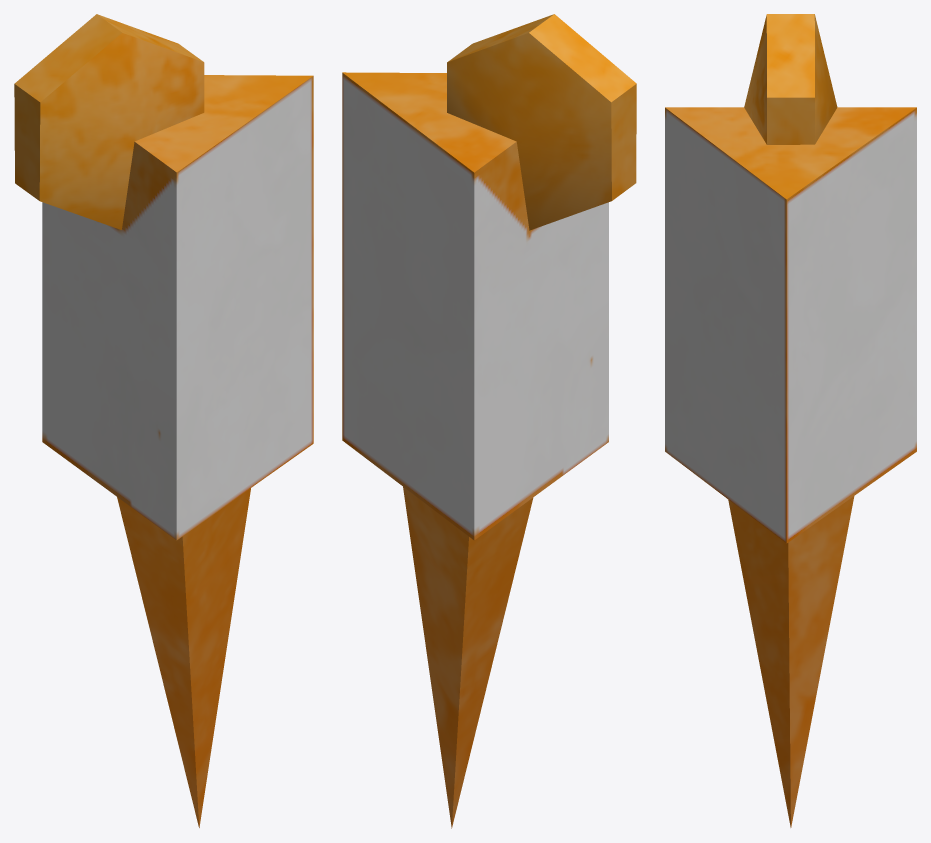
The model's file is spike_strut.fbx.
3 views of the same model, side by side, from view 1: azimuth 30°, elevation 25°; view 2: azimuth 150°, elevation 25°; view 3: azimuth 270°, elevation 25° (orthographic). The views are drawn at different scales.
Parts seen in each view (by area): view 1: spike_strut; view 2: spike_strut; view 3: spike_strut.
Boxes of the visible parts, bbox=[...] form: spike_strut: bbox=[14, 14, 313, 827]; spike_strut: bbox=[342, 14, 636, 828]; spike_strut: bbox=[665, 14, 916, 827].
Size of the model in its own units: 2.92 by 8.14 by 2.4.
